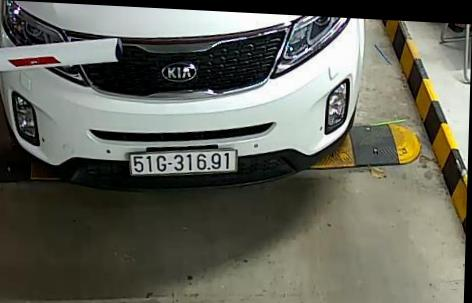License_Plate: (126, 143, 245, 182)
